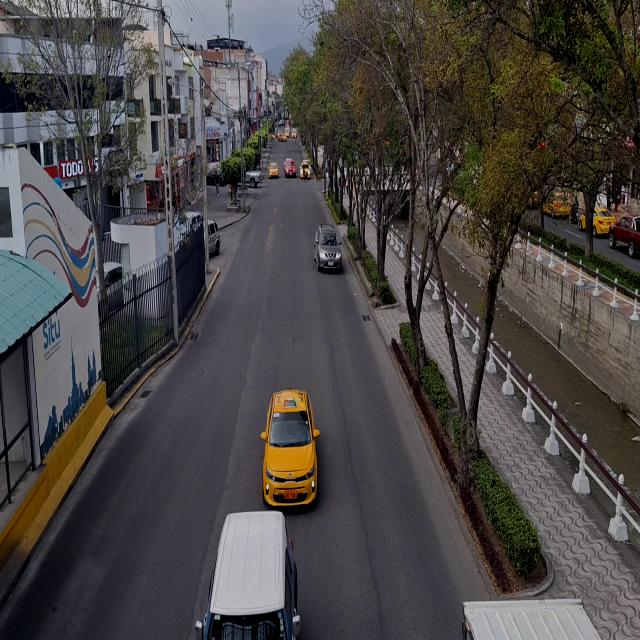CMT: (608, 216, 640, 253)
SED: (263, 393, 318, 506)
SUV: (204, 514, 293, 640), (315, 226, 341, 270)
